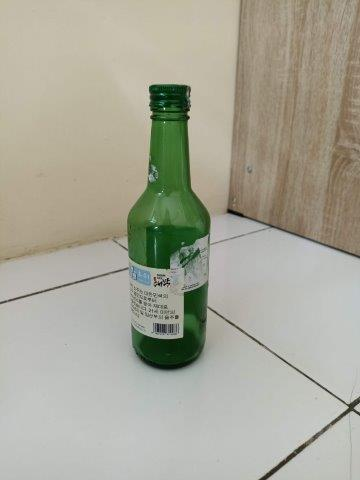botolkaca: (128, 84, 208, 370)
